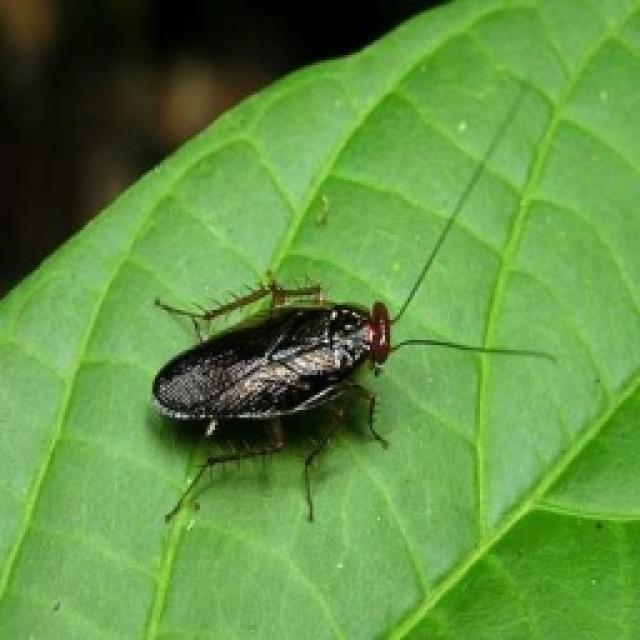cockroach: (149, 299, 382, 430)
